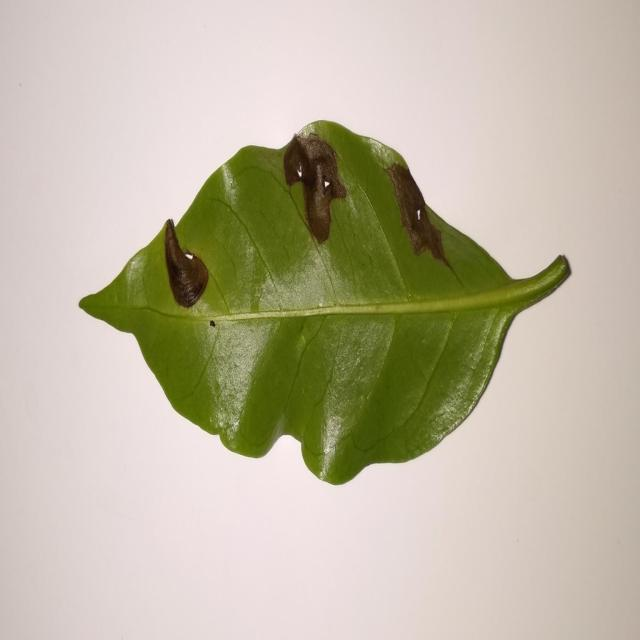phoma: (387, 161, 454, 272), (283, 131, 347, 244), (163, 219, 208, 308)
